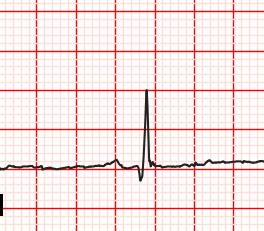Pathological Q Wave: (132, 161, 150, 187)
